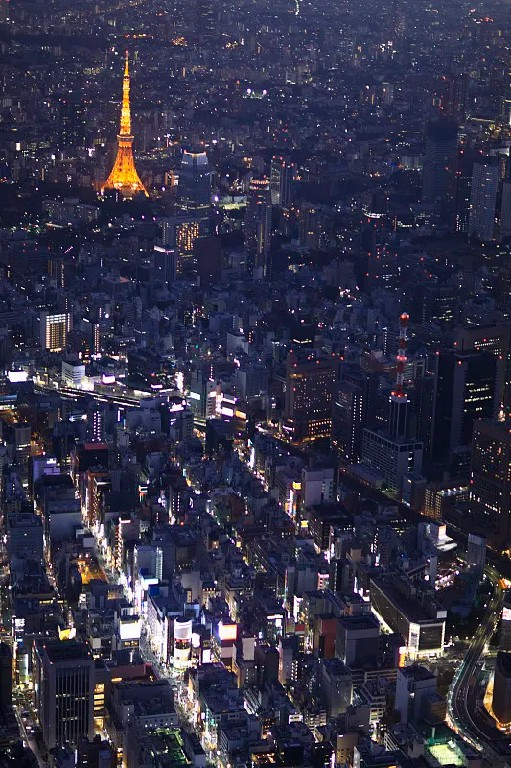Tokyo: (97, 47, 149, 197)
